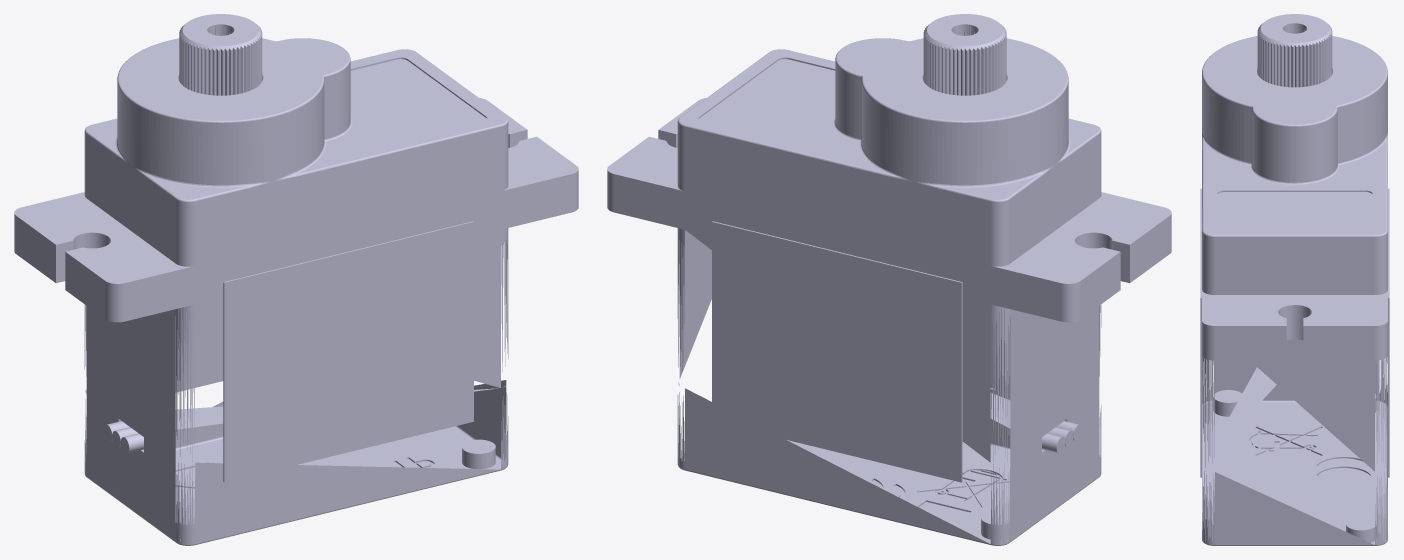
Rendered from Camera_servo002.dae.
The picture shows the model from 3 angles, left to right: view 1: azimuth 30°, elevation 25°; view 2: azimuth 150°, elevation 25°; view 3: azimuth 270°, elevation 25°; orthographic projection. The views are drawn at different scales.
Parts seen in each view (by area): view 1: node0; view 2: node0; view 3: node0.
Part boxes in pixels (x1,y1,x2,y2): node0: [14, 14, 578, 545]; node0: [607, 14, 1171, 545]; node0: [1200, 14, 1389, 545].
Bounding box in the file's own units: 0.0321 × 0.0124 × 0.03.
